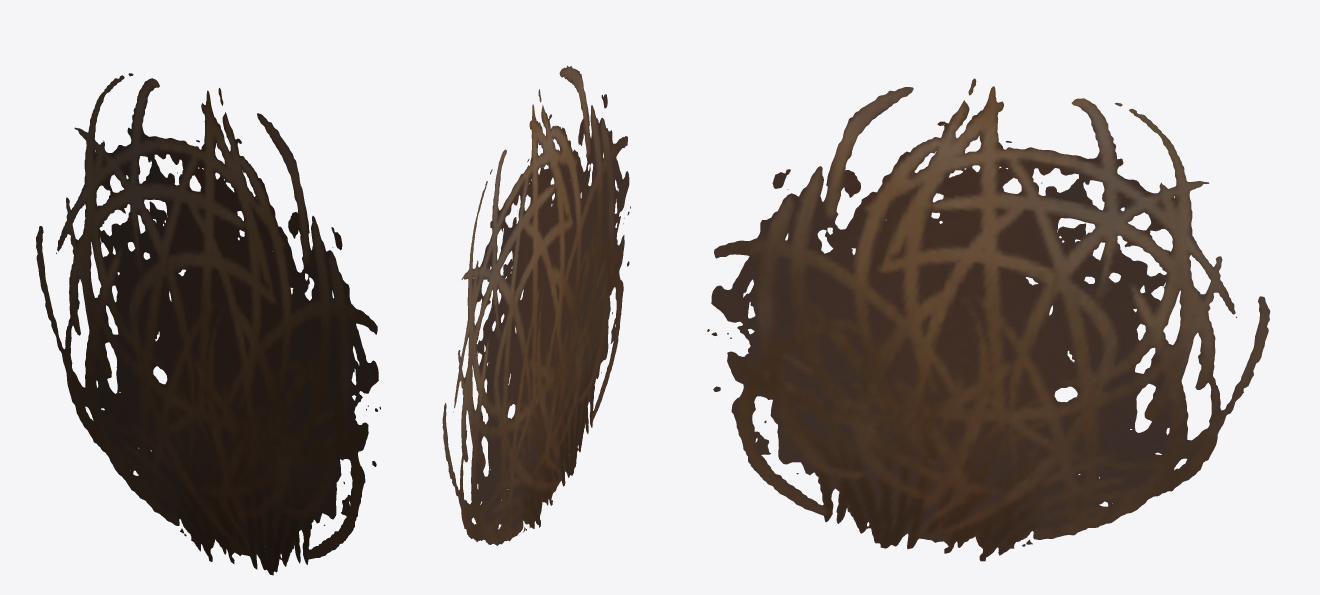
Rendered from tumble1_002.fbx.
3 views of the same model, side by side, from view 1: azimuth 30°, elevation 25°; view 2: azimuth 150°, elevation 25°; view 3: azimuth 270°, elevation 25° (orthographic). The views are drawn at different scales.
Visible parts, largest first — view 1: tumble1.002; view 2: tumble1.002; view 3: tumble1.002.
Boxes of the visible parts, x1,y1,x2,y2 form: tumble1.002: (36,73,380,575); tumble1.002: (442,65,630,545); tumble1.002: (707,78,1270,561).
Size of the model in its own units: 31.39 by 220 by 219.
